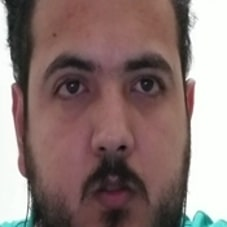drowsy: (40, 42, 176, 212)
